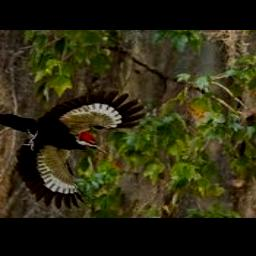Woodpecker: (0, 89, 151, 207)
